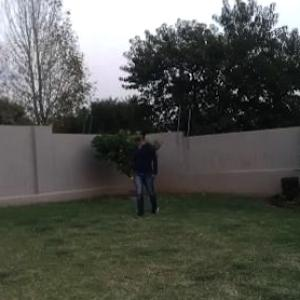follow: (131, 125, 163, 226)
